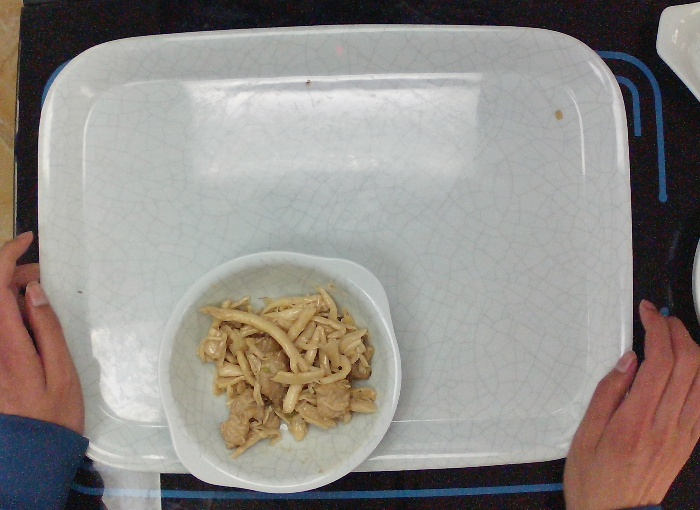JYsf-Shuang_Er_Wan: (158, 247, 405, 495)
